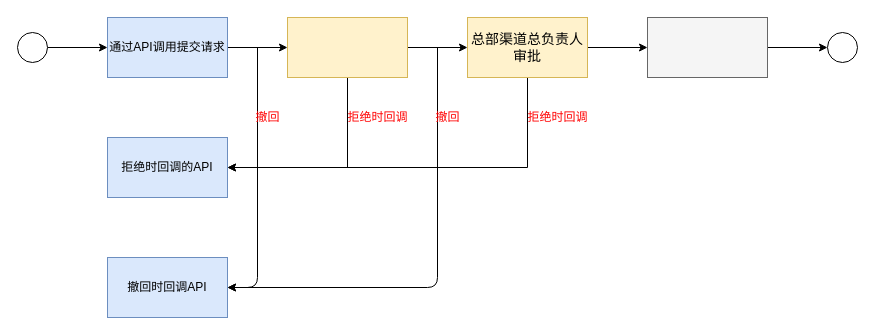
This 875x335 diagram has some shape labels left out. The shapes that lost their labels are listed below. From the top down, each one's centre as x and y in pixels, then its label:
[347,47]: 省区渠道负责人 审批
[707,47]: 知会总部系统实施
